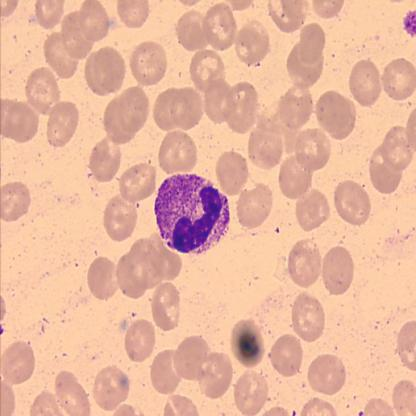Segmented neutrophil: (152, 171, 233, 257)
